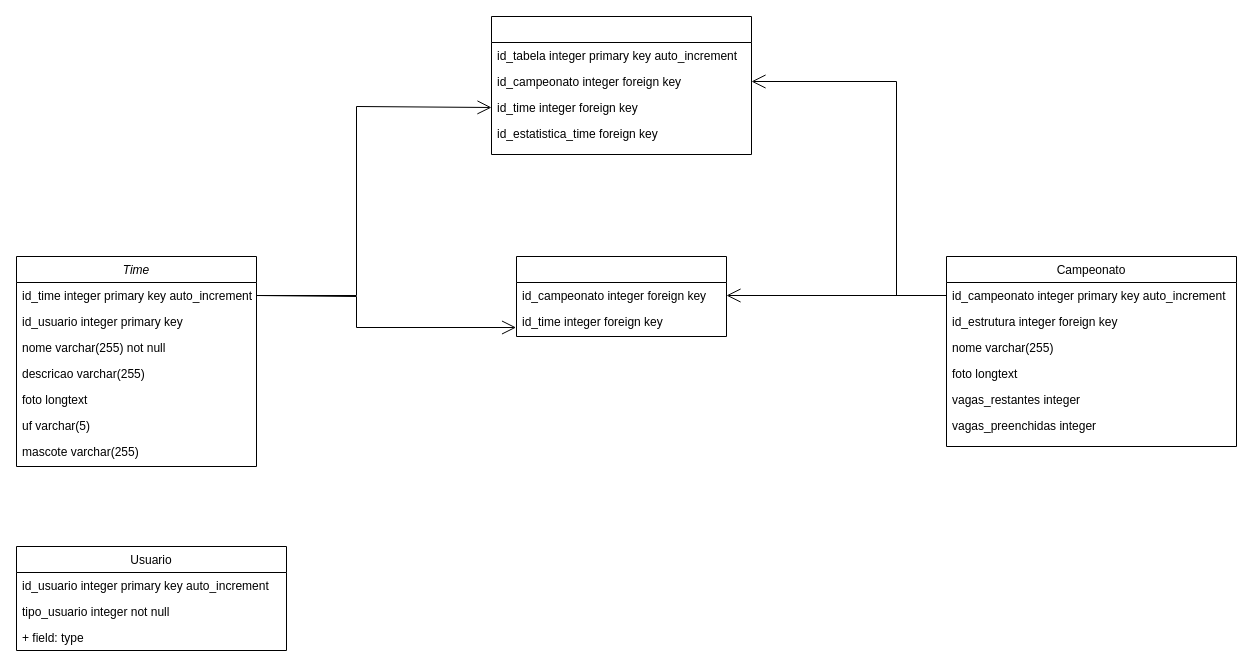
Image size: 1253x667. Some labels were removed from this diagram. The box of each missing label's shape, as (x1, y1, x2, y2) in pixels:
Relac_campeonato_time: (516, 256, 726, 336)
Tabela_campeonato: (490, 16, 752, 154)
